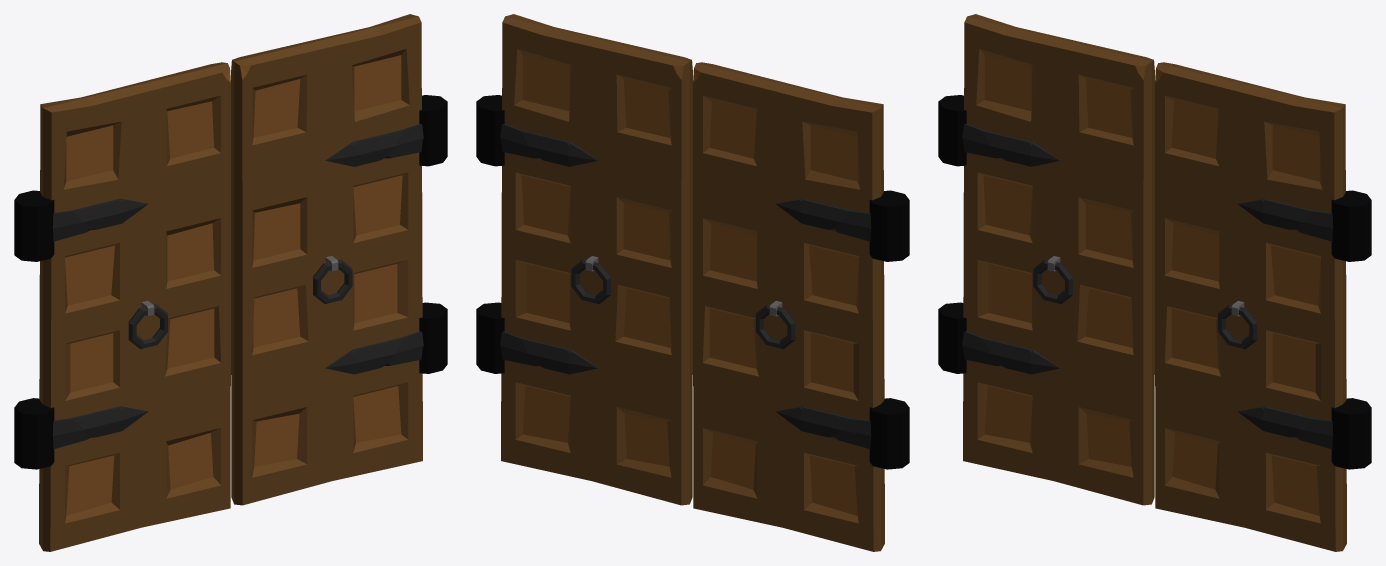
The model's file is newdoors.fbx.
3 views of the same model, side by side, from view 1: azimuth 30°, elevation 25°; view 2: azimuth 150°, elevation 25°; view 3: azimuth 330°, elevation 25° (orthographic).
Parts seen in each view (by area): view 1: DoorLeft, DoorRight; view 2: DoorLeft, DoorRight; view 3: DoorRight, DoorLeft.
Part boxes in pixels (left/top/right/bottom): DoorLeft: left=14, top=62, right=230, bottom=551; DoorRight: left=231, top=14, right=447, bottom=505; DoorLeft: left=693, top=62, right=909, bottom=551; DoorRight: left=476, top=14, right=692, bottom=505; DoorRight: left=1155, top=62, right=1371, bottom=551; DoorLeft: left=938, top=14, right=1154, bottom=505.
Size of the model in its own units: 3 by 2.98 by 0.2986.
